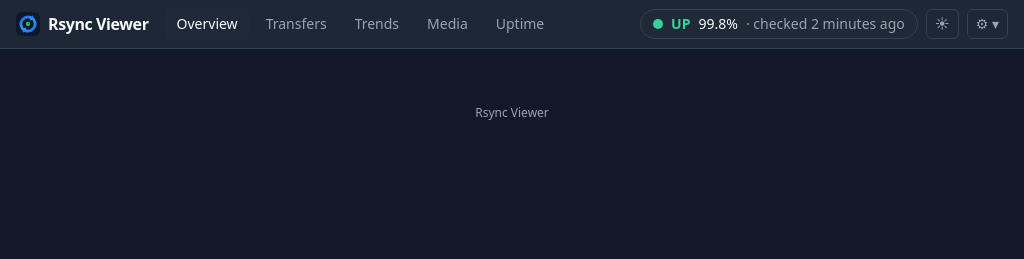
Scenario: update availability (AC-008) › shows neither badge nor menu item when up to date
What coordinates should you click on to do the following:
click the button named "Settings menu"
I would click on:
 (987, 24)
Its box is x1=967 y1=9 x2=1008 y2=39.
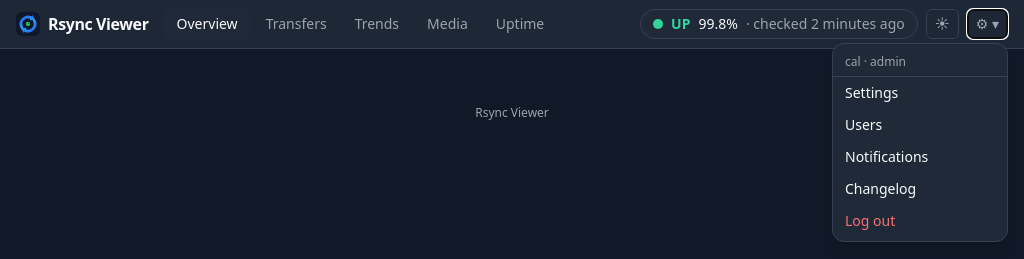
Expected: the menu item "Settings" is shown, x1=845 y1=83 x2=898 y2=102
